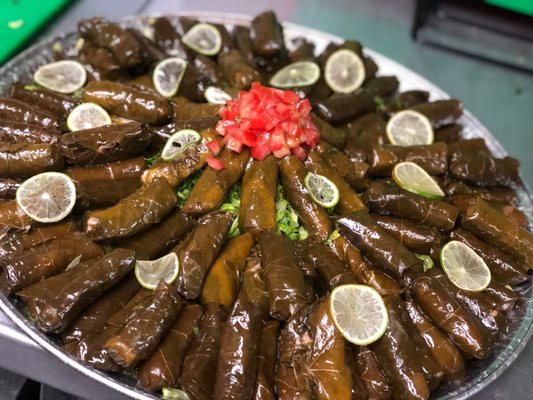curry: (12, 6, 533, 400)
